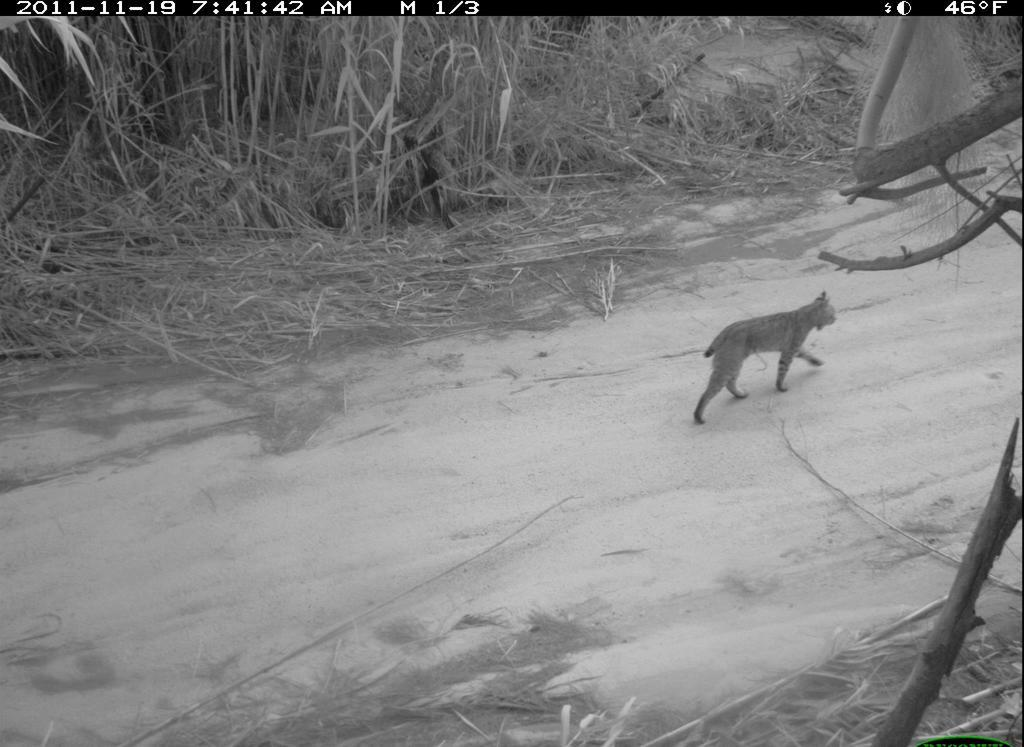bobcat: (689, 286, 843, 429)
